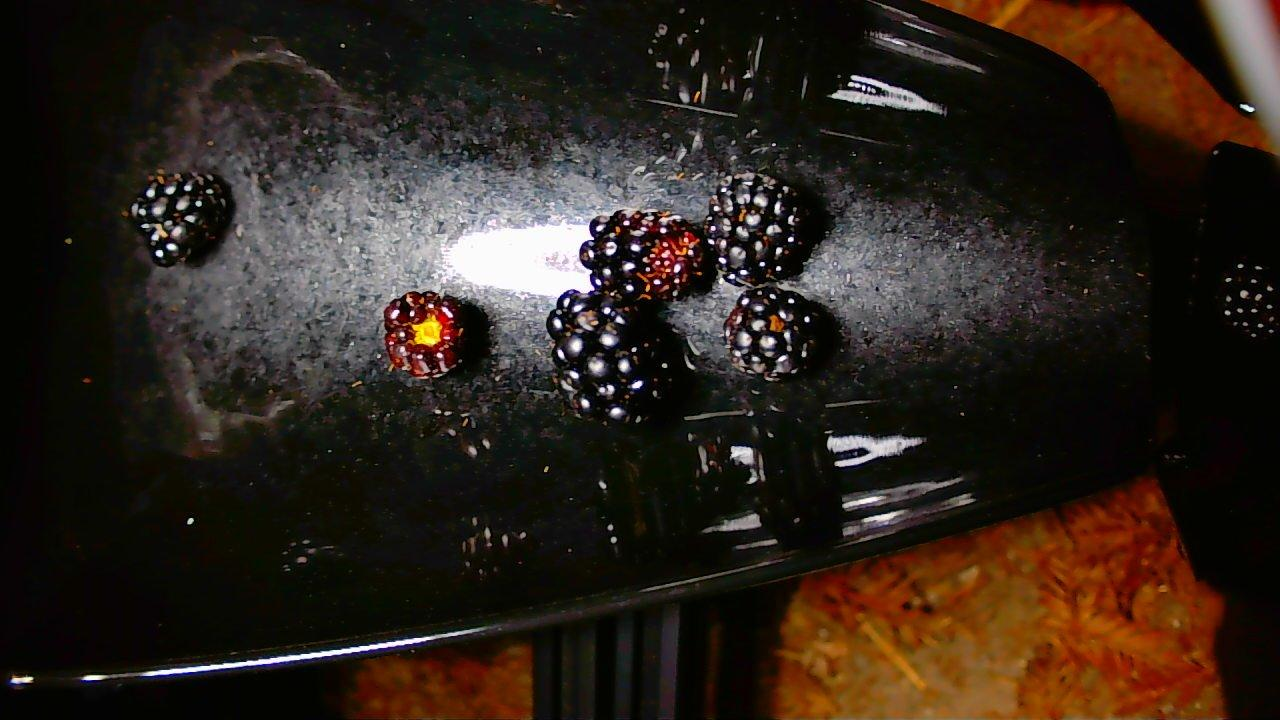berry: (548, 290, 675, 423), (704, 173, 815, 286), (579, 210, 709, 300), (128, 171, 230, 266), (723, 287, 823, 380), (384, 292, 469, 378), (1220, 262, 1279, 337)
